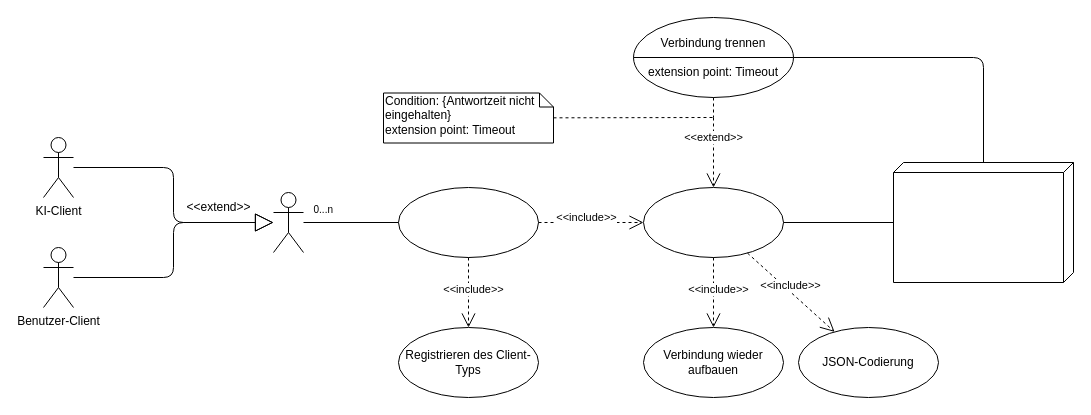
The diagram is 1091 pixels wide and 415 high, and some of its shapes have lost their labels. The centre of each missing label's shape, as x and y in pixels:
"Client {abstract}" goes at point (288, 222).
"Server" goes at point (983, 222).
"Verbindung halten" goes at point (713, 222).
"Verbindung initiieren" goes at point (468, 222).
